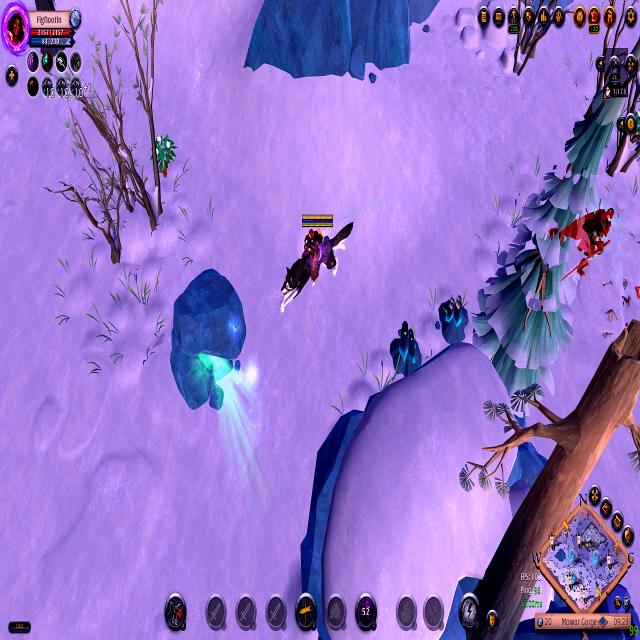hide: (148, 130, 178, 180)
ore: (557, 194, 615, 284)
player: (388, 319, 424, 379), (435, 289, 473, 345)
red: (276, 207, 358, 324)
